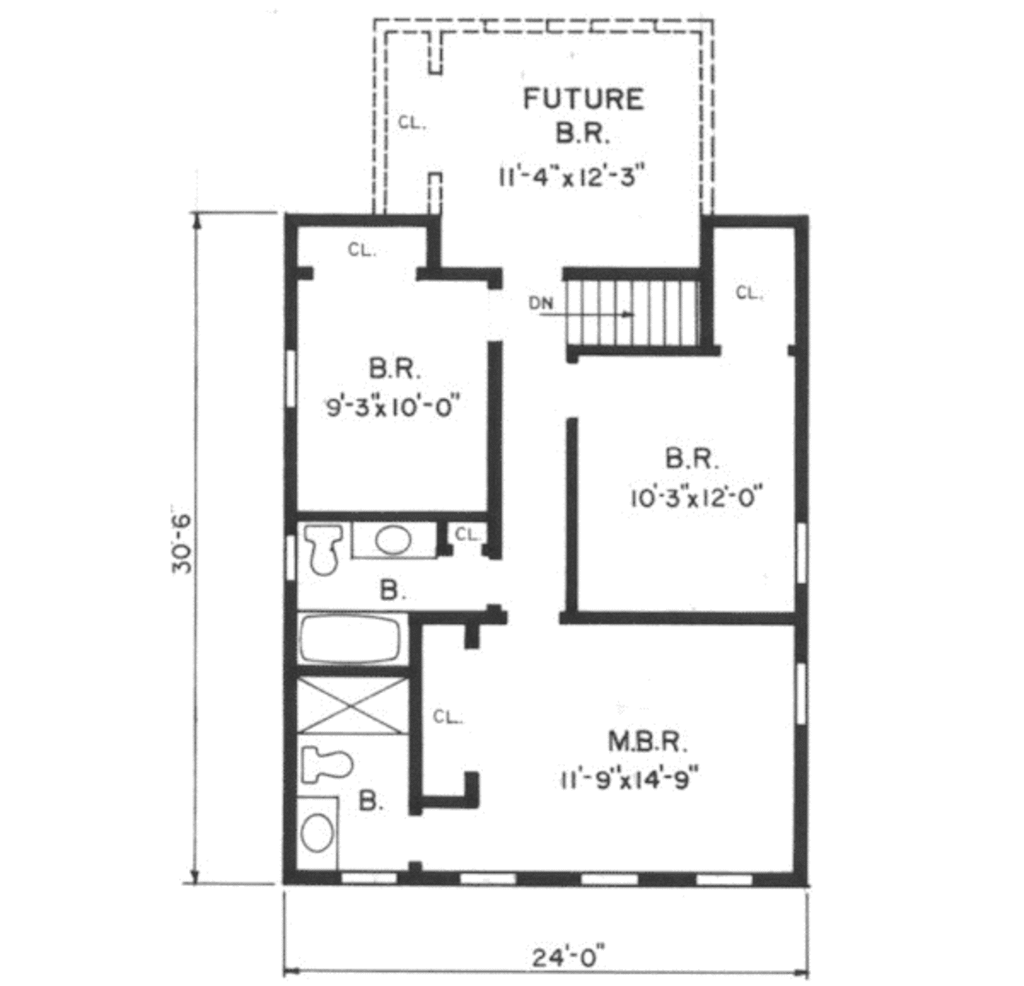large_sink: (297, 518, 349, 581), (294, 743, 359, 787)
small_sink: (344, 521, 442, 561), (291, 796, 340, 874)
stairs: (529, 271, 705, 355)
tub: (293, 605, 413, 670)
window: (690, 870, 761, 894), (791, 518, 813, 593), (335, 868, 396, 889), (282, 345, 300, 415), (793, 662, 812, 726), (452, 868, 519, 886), (581, 870, 642, 888)
